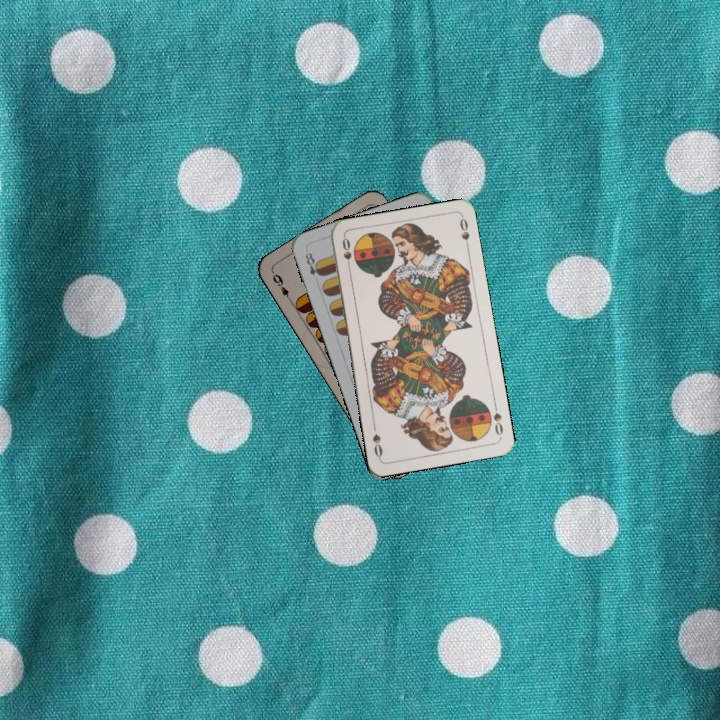E8: (301, 248, 325, 279)
E9: (268, 268, 295, 305)
SO: (489, 399, 506, 440), (338, 234, 354, 274)
